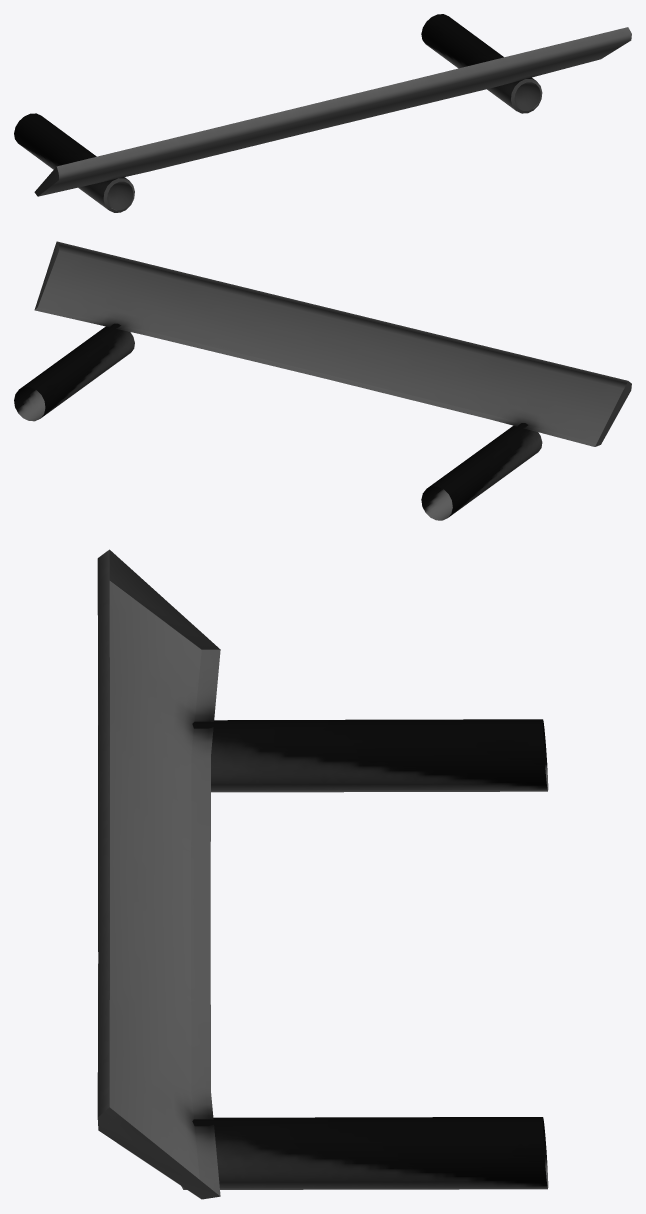
Rendered from Muscle_1_Bumper_Rear_1.fbx.
The picture shows the model from 3 angles, top to bottom: view 1: azimuth 30°, elevation 25°; view 2: azimuth 150°, elevation 25°; view 3: azimuth 270°, elevation 25°; orthographic projection. The views are drawn at different scales.
Visible parts, largest first — view 1: Muscle_1_Bumper_Rear_1; view 2: Muscle_1_Bumper_Rear_1; view 3: Muscle_1_Bumper_Rear_1.
Part boxes in pixels (x1,y1,x2,y2): Muscle_1_Bumper_Rear_1: [14, 14, 631, 212]; Muscle_1_Bumper_Rear_1: [14, 241, 631, 520]; Muscle_1_Bumper_Rear_1: [97, 549, 548, 1199].
Bounding box in the file's own units: 142 × 18.86 × 48.28.
